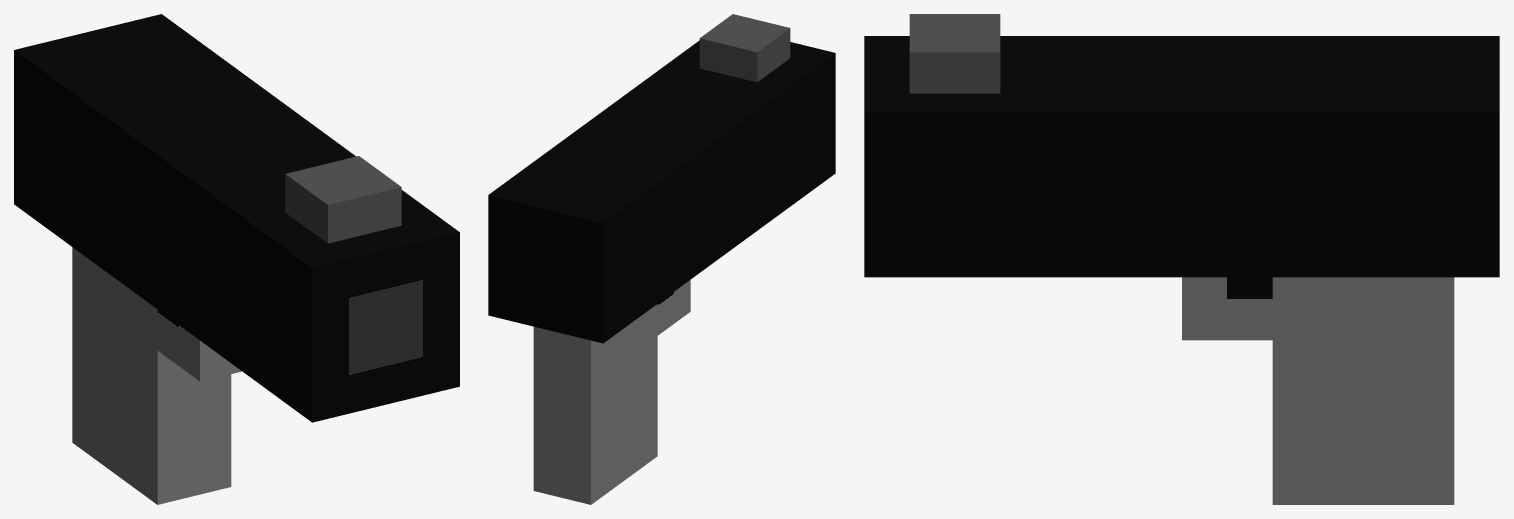
The model's file is Pistol.gltf.
3 renders of one model, left to right at view 1: azimuth 30°, elevation 25°; view 2: azimuth 150°, elevation 25°; view 3: azimuth 270°, elevation 25°, orthographic. The views are drawn at different scales.
Parts seen in each view (by area): view 1: mesh (×4); view 2: mesh (×4); view 3: mesh (×4).
Part boxes in pixels (x1,y1,x2,y2): mesh (×4): (14,14,459,504); mesh (×4): (488,14,835,504); mesh (×4): (864,14,1499,504).
Bounding box in the file's own units: 0.25 × 0.6875 × 0.875.
Materials: 4 (4 with a texture image).
